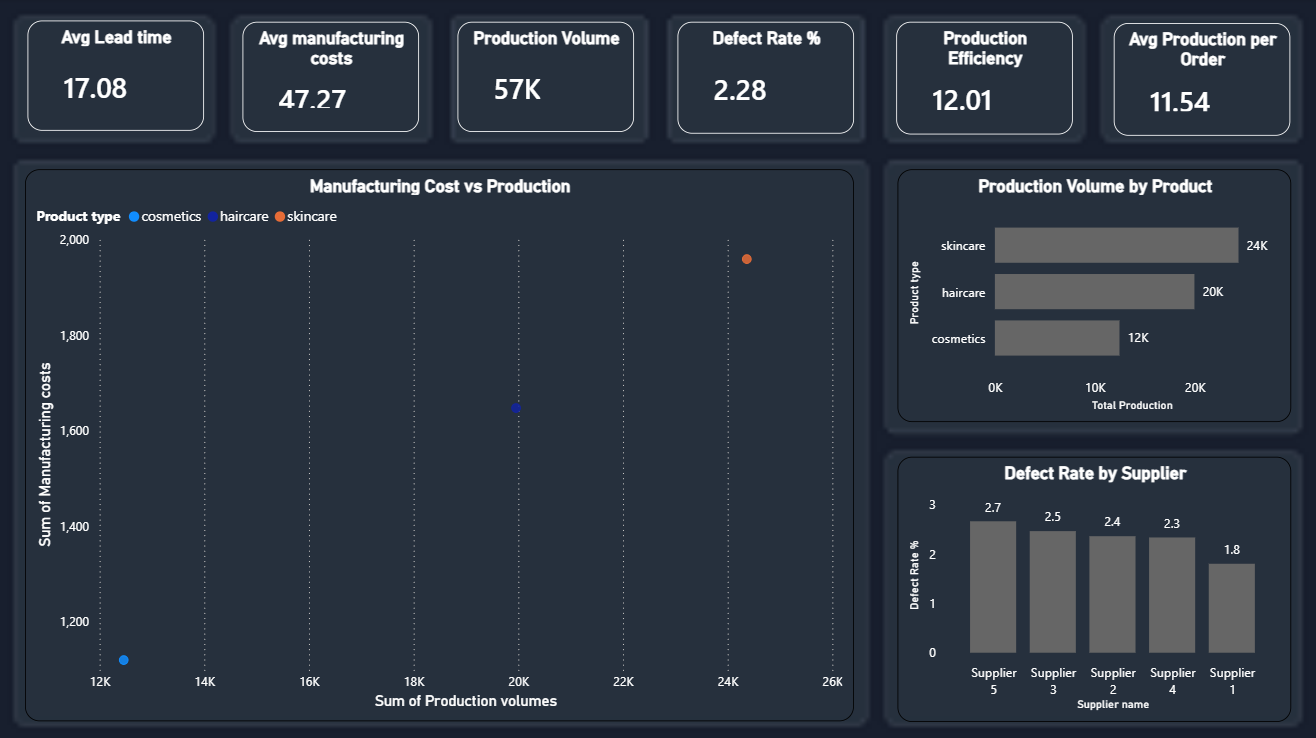

This screenshot's page, from the dashboard's own definition file:
{"tool":"powerbi","page":{"name":"OPERATIONS","canvas":[1280,720],"ordinal":1},"visuals":[{"type":"cardVisual","title":"Avg Lead time","fields":{"Data":["supply-chain.Avg Lead Time"]},"box":[31.1,21.3,170.5,106.6],"z":0},{"type":"cardVisual","title":"Avg manufacturing costs","fields":{"Data":["supply-chain.Avg Manufacturing Cost"]},"box":[239.3,23,170.5,106.6],"z":1000},{"type":"cardVisual","title":"Production Volume","fields":{"Data":["supply-chain.Total Production"]},"box":[445.9,23,170.5,106.6],"z":2000},{"type":"cardVisual","title":"Defect Rate %","fields":{"Data":["supply-chain.Defect Rate %"]},"box":[659,23,170.5,108.2],"z":5000},{"type":"clusteredBarChart","title":"Production Volume by Product","fields":{"Category":["supply-chain.Product type"],"Y":["supply-chain.Total Production"]},"box":[870.5,165.6,380.3,244.3],"z":6000},{"type":"scatterChart","title":"Manufacturing Cost vs Production","fields":{"X":["Sum(supply-chain.Production volumes)"],"Series":["supply-chain.Product type"],"Y":["Sum(supply-chain.Manufacturing costs)"]},"box":[29.5,165.6,800,532.8],"z":7000},{"type":"clusteredColumnChart","title":"Defect Rate by Supplier","fields":{"Category":["supply-chain.Supplier name"],"Y":["supply-chain.Defect Rate %"]},"box":[870.5,442.6,380.3,255.7],"z":8000},{"type":"cardVisual","title":"Production Efficiency","fields":{"Data":["supply-chain.Production Efficiency"]},"box":[870.4,22.5,170.4,108.5],"z":8001},{"type":"cardVisual","title":"Avg Production per Order","fields":{"Data":["supply-chain.Avg Production per Order"]},"box":[1080.3,23.9,170.4,108.5],"z":8002}]}

Visuals, with their boxes in screenshot pixels (x1, y1, x2, y2), scaled from the page's 1280x720 canvas onto the 1316x738 screenshot:
"Avg Lead time" cardVisual: detection(32, 22, 207, 131)
"Avg manufacturing costs" cardVisual: detection(246, 24, 421, 133)
"Production Volume" cardVisual: detection(458, 24, 634, 133)
"Defect Rate %" cardVisual: detection(678, 24, 853, 134)
"Production Volume by Product" clusteredBarChart: detection(895, 170, 1286, 420)
"Manufacturing Cost vs Production" scatterChart: detection(30, 170, 853, 716)
"Defect Rate by Supplier" clusteredColumnChart: detection(895, 454, 1286, 716)
"Production Efficiency" cardVisual: detection(895, 23, 1070, 134)
"Avg Production per Order" cardVisual: detection(1111, 24, 1286, 136)
